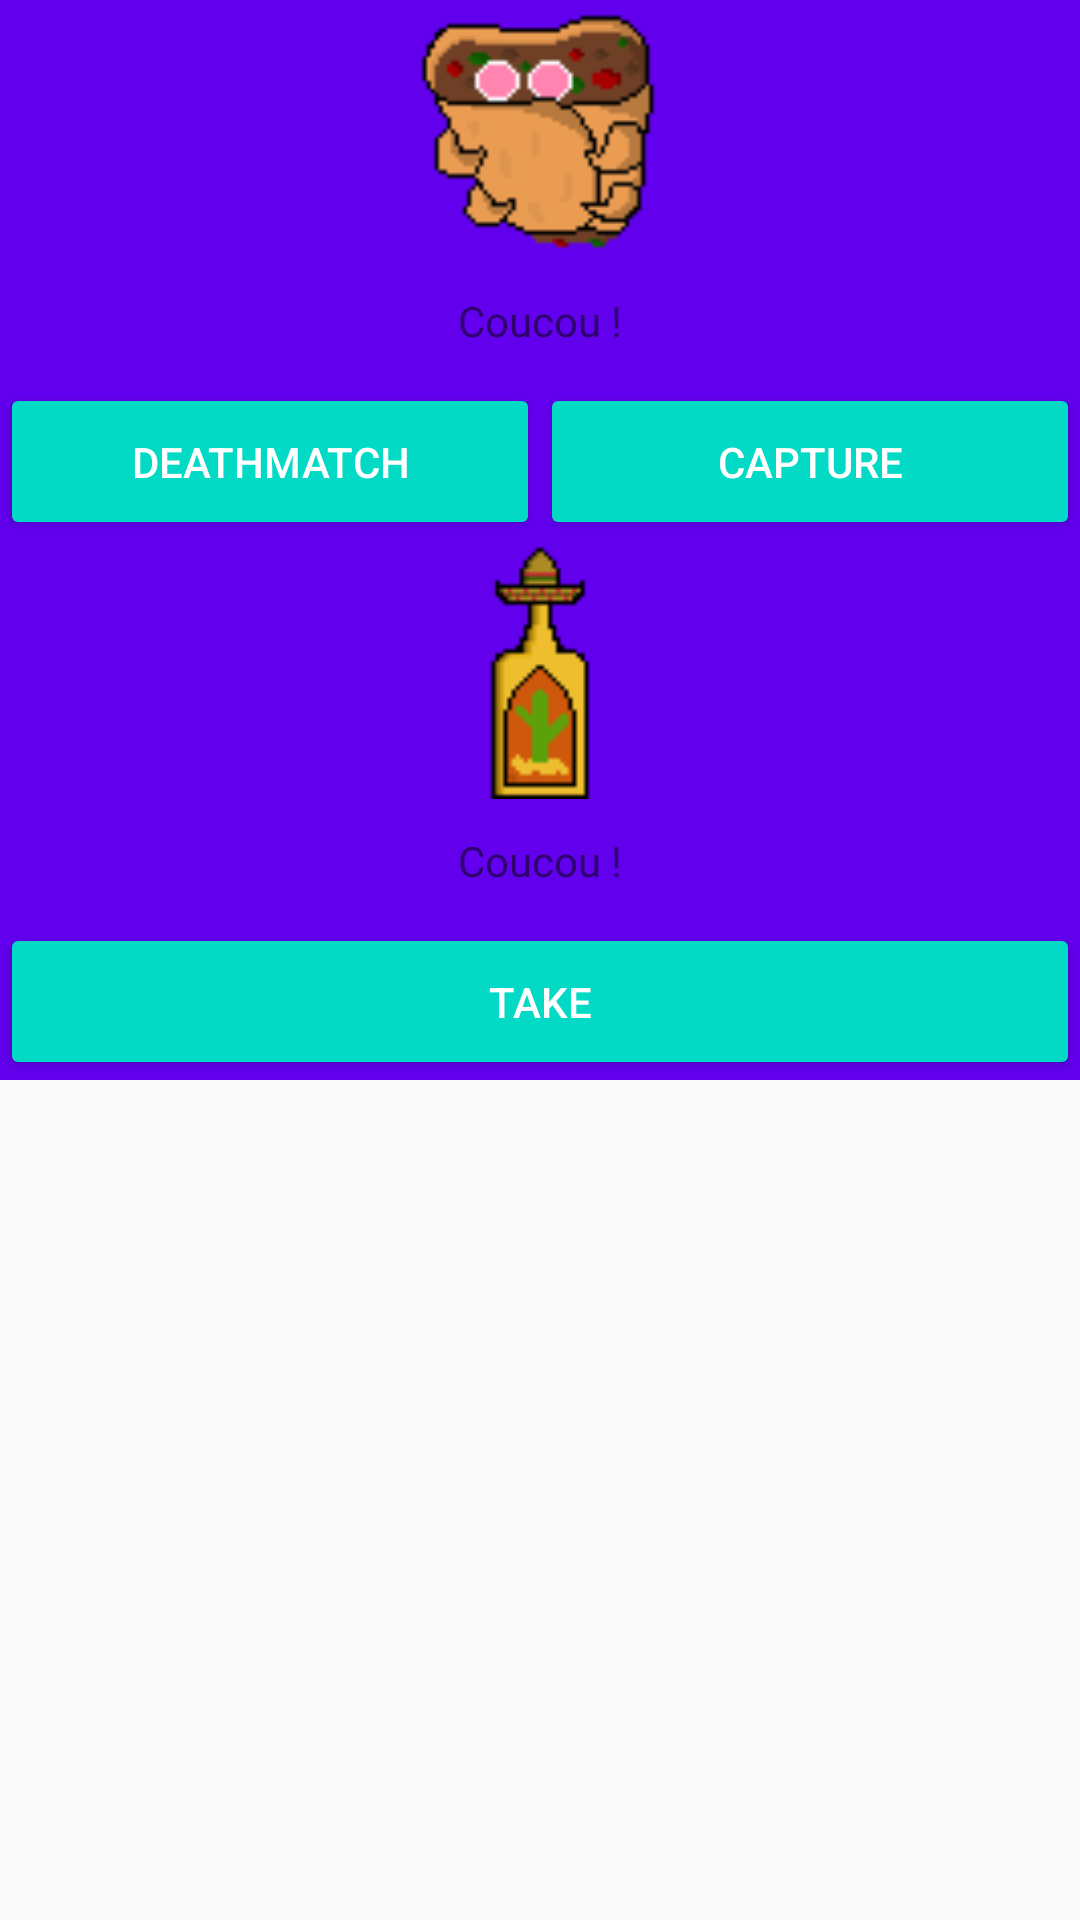

Icons on this 1080*1920 Android screen, each with its box as BBox(x1, y1, x2, y2):
buritops: BBox(421, 15, 655, 248)
nachopotion: BBox(490, 546, 590, 799)
